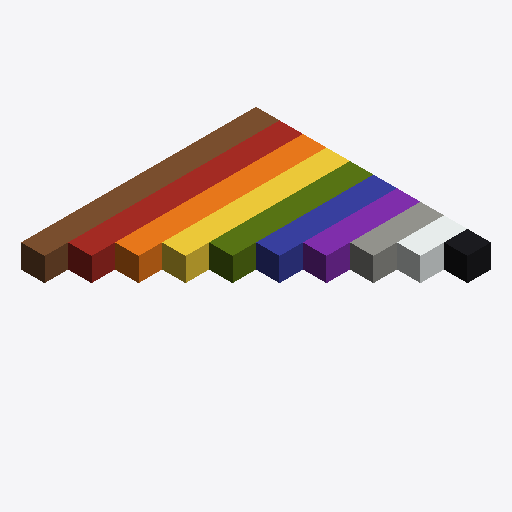
A Minecraft block model of 10 cuboids, rendered isometrically (azimuth 45°, elevation 35.3°) with the resource pack's own textures.
Parts seen in each view (by area): element 1, element 2, element 3, element 4, element 5, element 6, element 7, element 8, element 9, element 10.
Part boxes in pixels (left/top/right/bottom): element 1: left=21, top=107, right=278, bottom=282; element 2: left=68, top=120, right=301, bottom=282; element 3: left=115, top=134, right=325, bottom=282; element 4: left=162, top=148, right=348, bottom=282; element 5: left=209, top=161, right=372, bottom=282; element 6: left=256, top=175, right=395, bottom=282; element 7: left=303, top=188, right=419, bottom=282; element 8: left=350, top=202, right=443, bottom=282; element 9: left=397, top=216, right=466, bottom=282; element 10: left=444, top=229, right=490, bottom=282.
Bounding box in the file's own units: 10 × 1 × 10.